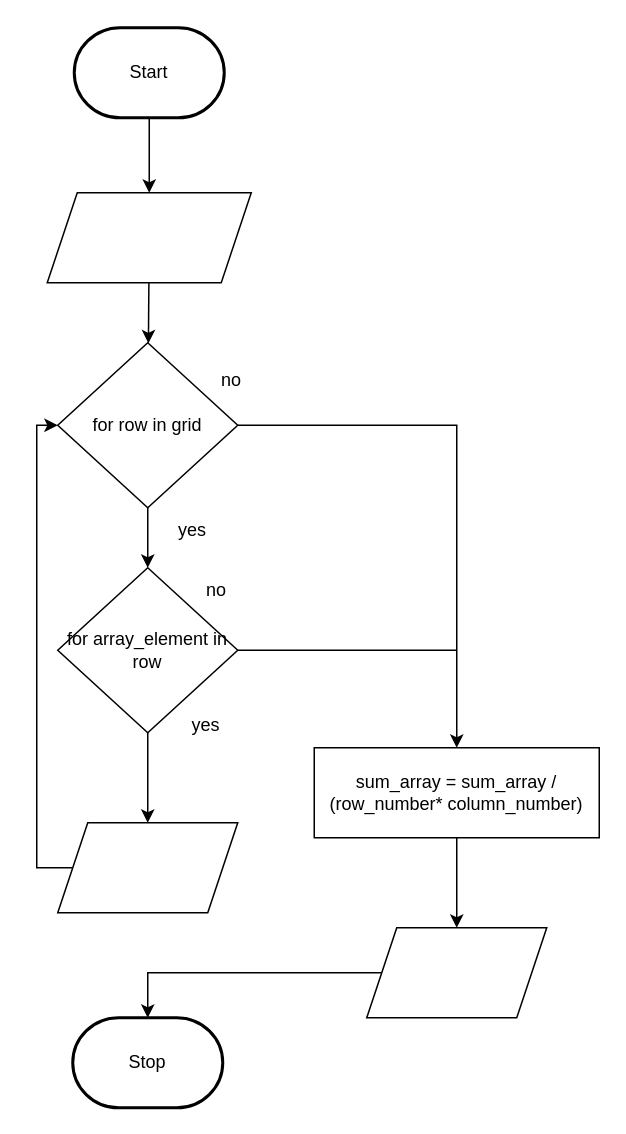
Some shapes in this 626 by 1134 pixel diagram are drawn without their labels. The centre of each missing label's shape, as x and y in pixels:
"get sum_array" belongs at point 148,237.
"return smallest_num" belongs at point 456,972.
"sum_array += array_element" belongs at point 147,867.
